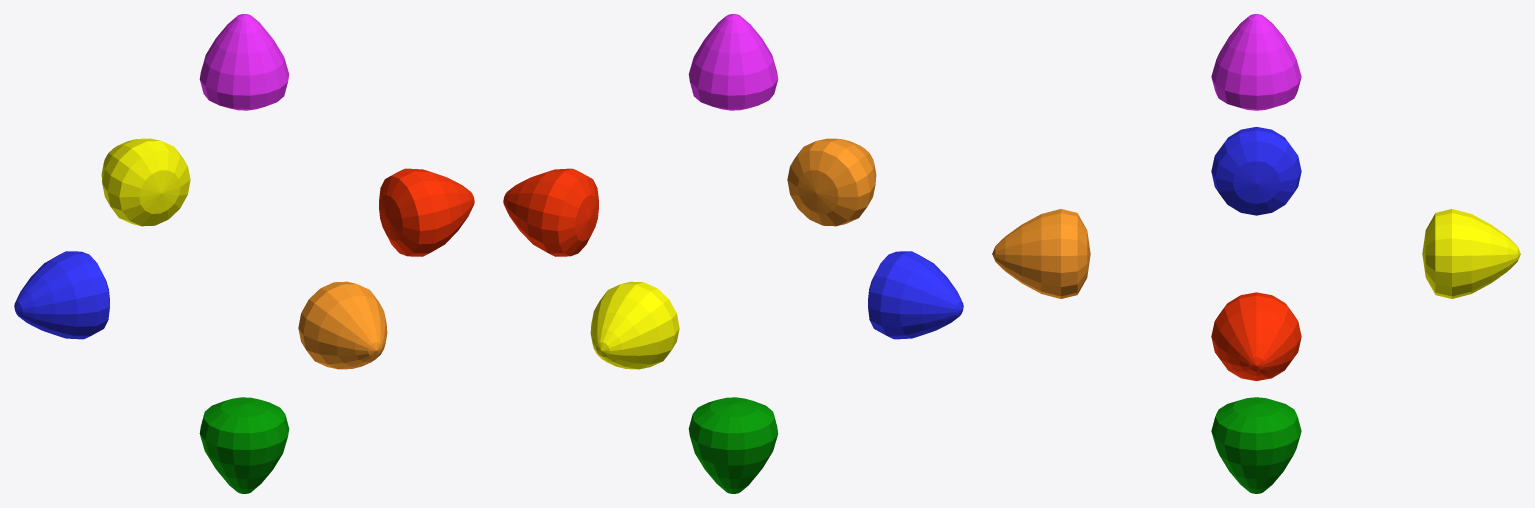
File: indicadores.fbx
3 views of the same model, side by side, from view 1: azimuth 30°, elevation 25°; view 2: azimuth 150°, elevation 25°; view 3: azimuth 270°, elevation 25° (orthographic).
Parts seen in each view (by area): view 1: Plane.003; view 2: Plane.003; view 3: Plane.003.
Part boxes in pixels (x1,y1,x2,y2): Plane.003: (14, 14, 474, 493); Plane.003: (503, 14, 963, 493); Plane.003: (992, 14, 1520, 493).
Size of the model in its own units: 492 by 492 by 492.
